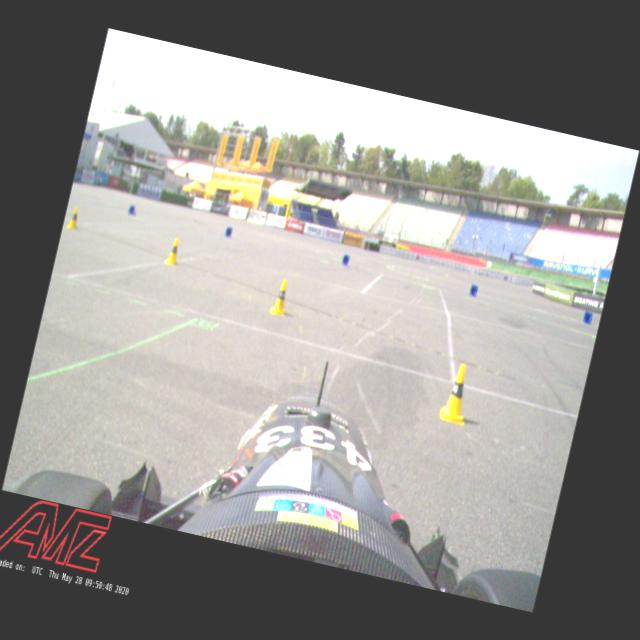blue_cone: (126, 204, 138, 217)
yellow_cone: (437, 360, 478, 427), (268, 276, 293, 318), (162, 234, 185, 268), (64, 204, 82, 232)
